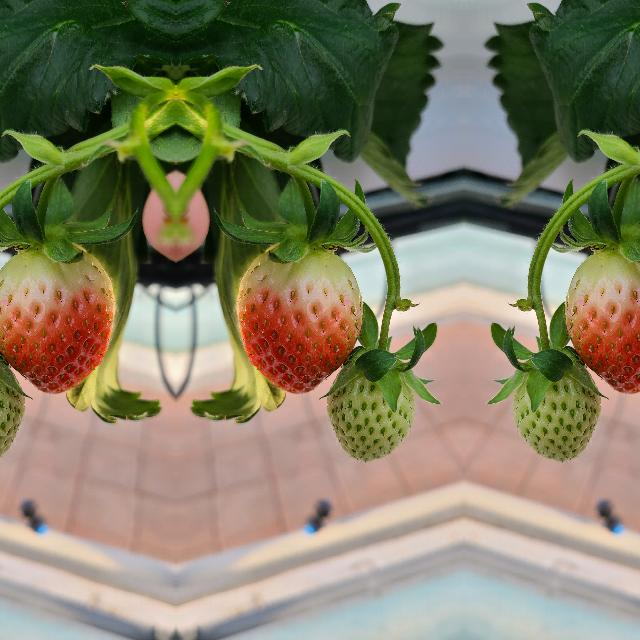Health_100: (236, 249, 360, 393), (0, 249, 114, 393), (565, 249, 640, 393)
Health_25: (322, 344, 414, 462), (512, 344, 604, 462), (0, 344, 28, 461)
